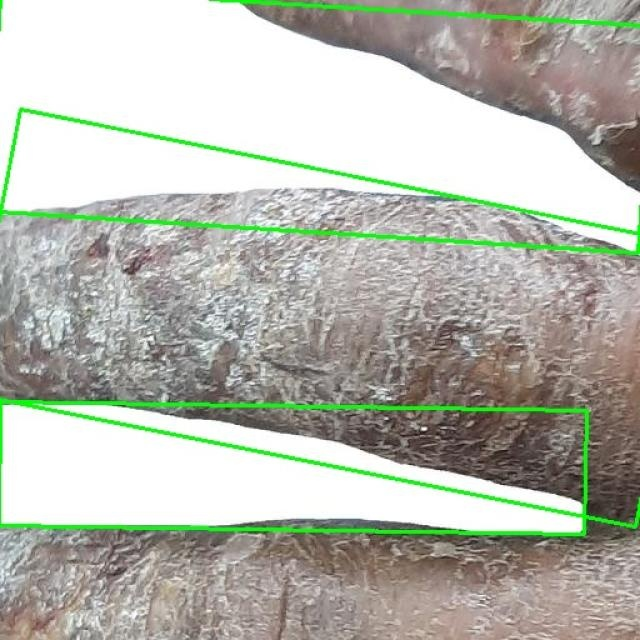Eczema: (0, 110, 640, 526), (0, 0, 640, 253), (0, 402, 587, 534)
